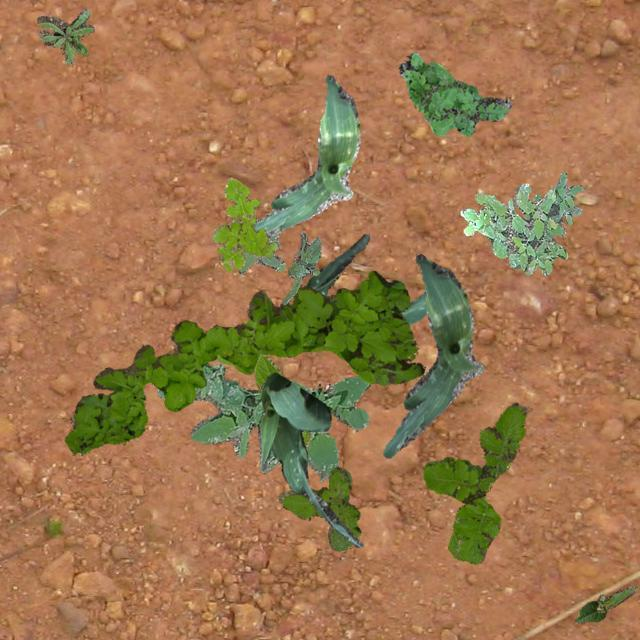crop: (382, 253, 482, 457), (256, 372, 362, 546), (254, 74, 358, 236), (306, 234, 426, 344), (252, 352, 308, 448), (574, 584, 636, 622)
weed: (64, 270, 424, 453), (157, 362, 369, 481), (422, 402, 528, 564), (459, 182, 566, 274), (398, 51, 510, 136), (278, 466, 360, 550), (210, 176, 276, 272), (524, 172, 582, 240), (36, 8, 94, 64), (280, 232, 320, 304), (238, 218, 284, 272)
